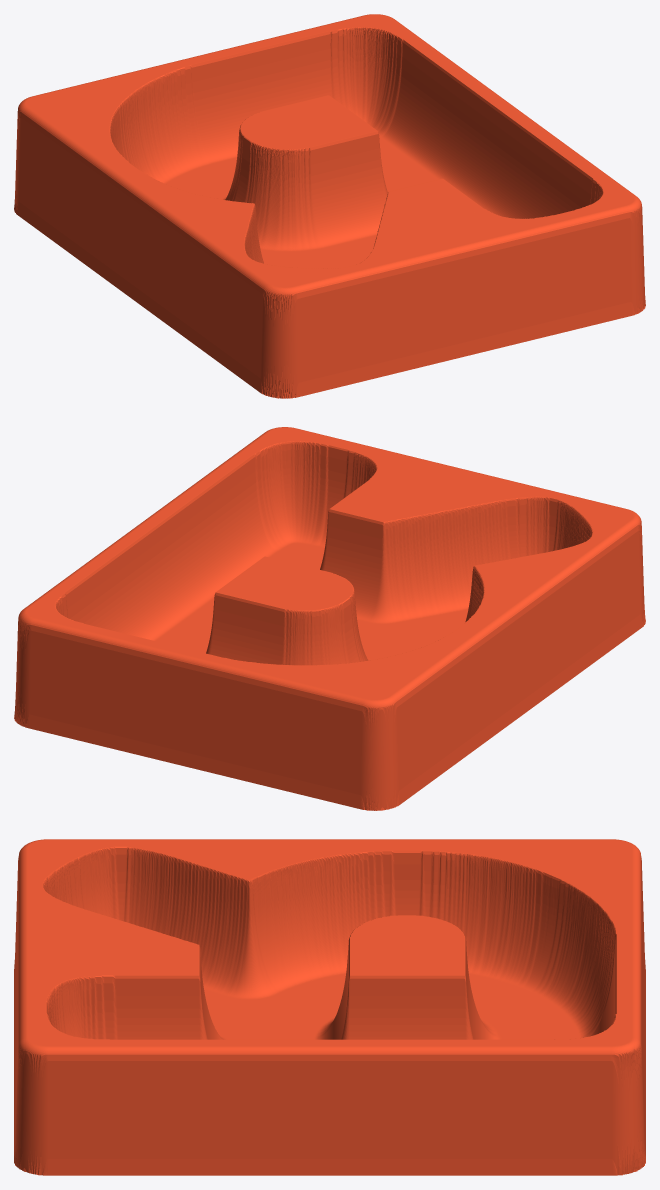
The model's file is mold.glb.
The picture shows the model from 3 angles, top to bottom: view 1: azimuth 30°, elevation 25°; view 2: azimuth 150°, elevation 25°; view 3: azimuth 270°, elevation 25°; orthographic projection. The views are drawn at different scales.
Parts seen in each view (by area): view 1: geometry_0; view 2: geometry_0; view 3: geometry_0.
Part boxes in pixels (<box>): geometry_0: <box>14,14,645,398</box>; geometry_0: <box>14,427,645,810</box>; geometry_0: <box>14,839,645,1175</box>.
Bounding box in the file's own units: 0.1376 × 0.0365 × 0.1689.
